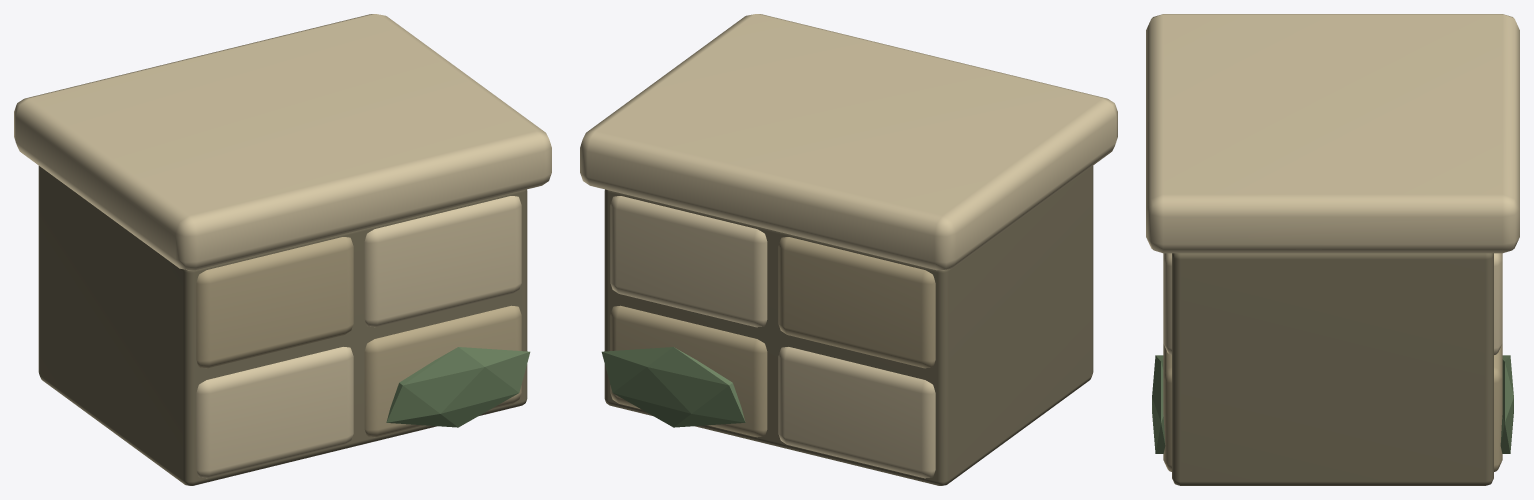
The model's file is wall_segment.glb.
3 views of the same model, side by side, from view 1: azimuth 30°, elevation 25°; view 2: azimuth 150°, elevation 25°; view 3: azimuth 270°, elevation 25° (orthographic). The views are drawn at different scales.
Visible parts, largest first — view 1: GardenWall; view 2: GardenWall; view 3: GardenWall.
Boxes of the visible parts, x1,y1,x2,y2 form: GardenWall: [14, 14, 551, 485]; GardenWall: [580, 14, 1117, 485]; GardenWall: [1146, 14, 1519, 485].
Bounding box in the file's own units: 1.07 × 0.76 × 0.87.
